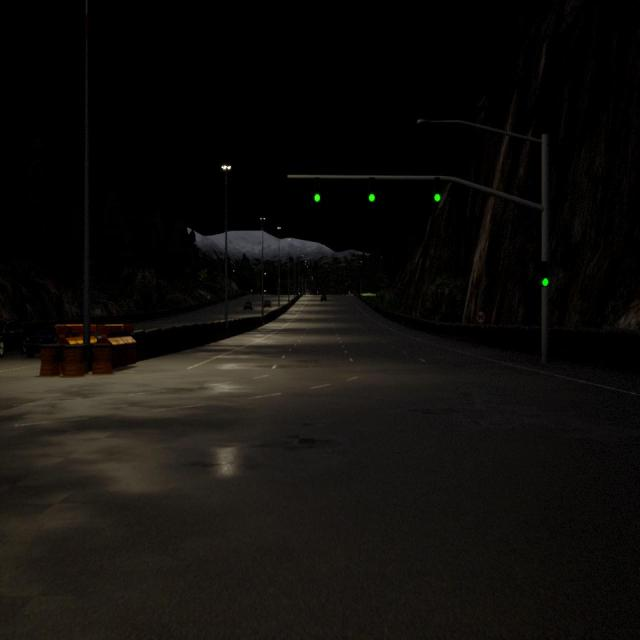Traffic_Signs: (476, 312, 486, 322), (96, 309, 100, 315)
Vehicle: (24, 320, 56, 356), (0, 318, 23, 356), (244, 301, 252, 311), (263, 300, 271, 308), (321, 294, 326, 302)
traffic_light: (368, 177, 376, 202), (541, 261, 548, 287), (434, 177, 441, 202), (315, 177, 320, 202)
